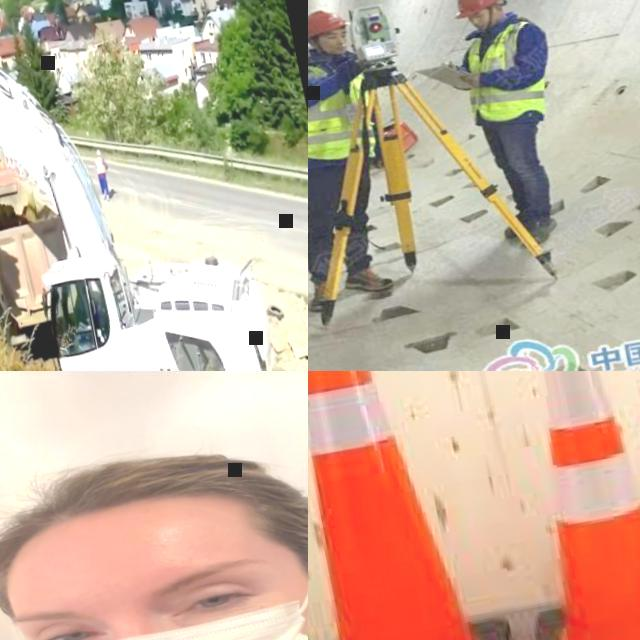helmet: (308, 6, 348, 45), (448, 0, 510, 21), (96, 150, 100, 156)
machinery: (0, 0, 299, 371), (0, 157, 89, 369)
mask: (14, 551, 308, 640)
no_helmet: (0, 428, 302, 582)
no_mask: (472, 16, 498, 34), (324, 41, 349, 59)
person: (0, 385, 308, 640), (443, 0, 594, 249), (308, 1, 417, 316), (69, 288, 104, 348), (92, 150, 114, 203)
safety_cone: (308, 371, 529, 640), (453, 371, 640, 640)
vest: (455, 18, 551, 134), (308, 48, 385, 176), (94, 158, 106, 177)
